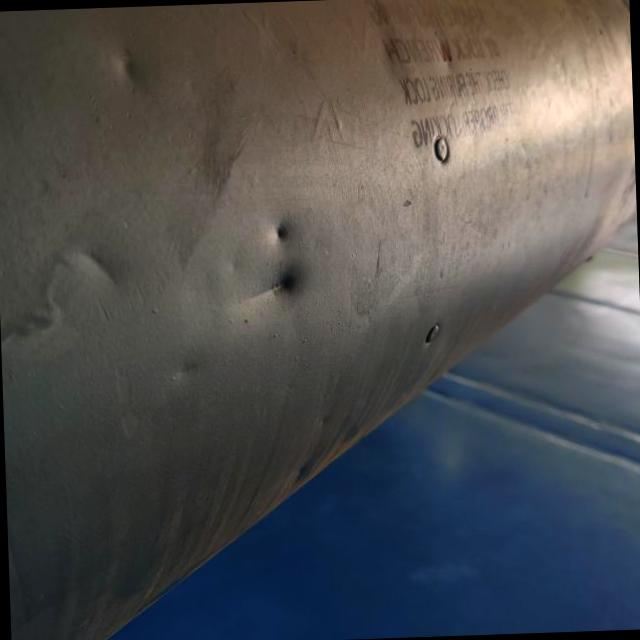dent: (202, 258, 313, 322), (82, 34, 159, 114), (61, 234, 140, 309), (254, 202, 305, 259)
